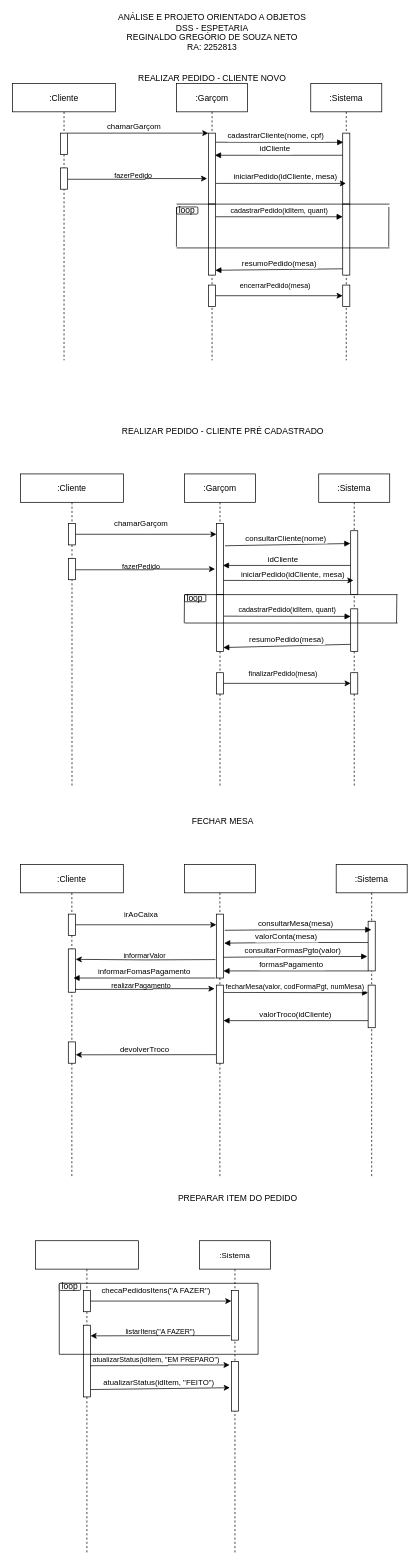
This 420x1566 diagram has some shape labels left out. The box of each missing label's shape, as (x1, y1, x2, y2) in pixels:
:Cozinheira: (35, 1240, 138, 1553)
:Operador de caixa: (184, 864, 255, 1177)
